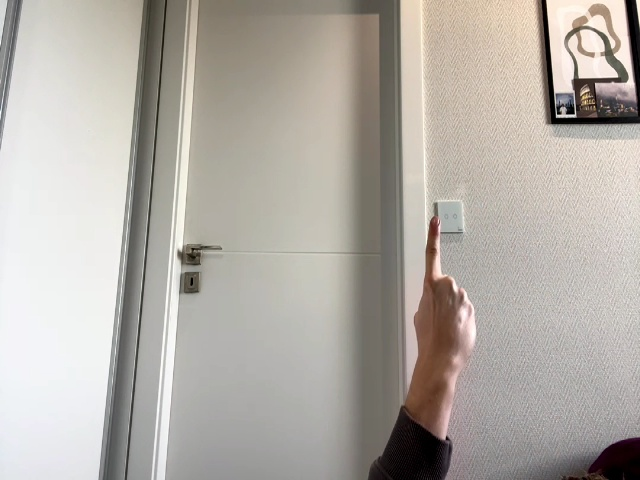D: (414, 216, 476, 379)
